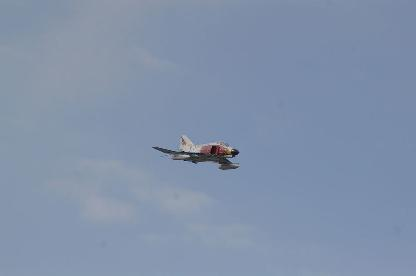F35: (151, 134, 239, 168)
